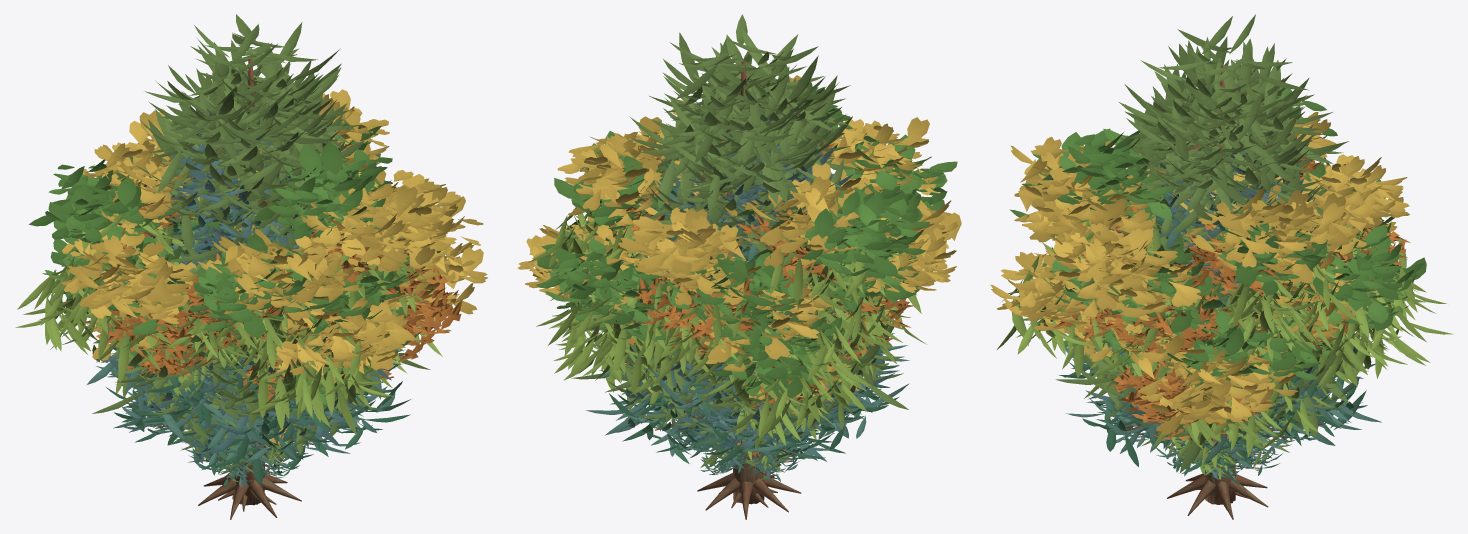
File: grove-trees.glb
3 views of the same model, side by side, from view 1: azimuth 30°, elevation 25°; view 2: azimuth 150°, elevation 25°; view 3: azimuth 270°, elevation 25° (orthographic).
Parts seen in each view (by area): view 1: ginkgo_5_leaves, redwood_5_leaves, camphor_5_leaves, willow_5_leaves, maple_5_leaves, cedar_5_leaves, cypress_5_leaves, pine_5_leaves, willow_3_leaves, maple_3_leaves, pine_3_leaves, redwood_3_leaves (+5 smaller); view 2: ginkgo_5_leaves, camphor_5_leaves, redwood_5_leaves, willow_5_leaves, maple_5_leaves, cedar_5_leaves, pine_5_leaves, cypress_5_leaves, willow_3_leaves, pine_3_leaves, cedar_3_leaves, redwood_3_leaves (+7 smaller); view 3: ginkgo_5_leaves, redwood_5_leaves, camphor_5_leaves, willow_5_leaves, maple_5_leaves, cedar_5_leaves, pine_5_leaves, willow_3_leaves, ginkgo_3_leaves, cypress_5_leaves, pine_3_leaves, camphor_3_leaves (+3 smaller).
Part boxes in pixels (x1=…): ginkgo_5_leaves: x1=61, y1=89, x2=487, y2=381; redwood_5_leaves: x1=92, y1=14, x2=430, y2=429; camphor_5_leaves: x1=29, y1=120, x2=440, y2=340; willow_5_leaves: x1=15, y1=169, x2=442, y2=435; maple_5_leaves: x1=86, y1=142, x2=462, y2=367; cedar_5_leaves: x1=87, y1=144, x2=410, y2=461; cypress_5_leaves: x1=101, y1=113, x2=391, y2=453; pine_5_leaves: x1=106, y1=197, x2=410, y2=485; willow_3_leaves: x1=111, y1=313, x2=409, y2=423; maple_3_leaves: x1=116, y1=265, x2=403, y2=409; pine_3_leaves: x1=121, y1=372, x2=343, y2=475; redwood_3_leaves: x1=134, y1=151, x2=356, y2=454; ginkgo_5_leaves: x1=517, y1=75, x2=961, y2=371; camphor_5_leaves: x1=536, y1=73, x2=957, y2=398; redwood_5_leaves: x1=571, y1=14, x2=908, y2=447; willow_5_leaves: x1=528, y1=207, x2=926, y2=445; maple_5_leaves: x1=552, y1=142, x2=920, y2=403; cedar_5_leaves: x1=586, y1=133, x2=909, y2=454; pine_5_leaves: x1=599, y1=158, x2=899, y2=466; cypress_5_leaves: x1=621, y1=101, x2=899, y2=447; willow_3_leaves: x1=621, y1=331, x2=889, y2=448; pine_3_leaves: x1=643, y1=369, x2=863, y2=466; cedar_3_leaves: x1=651, y1=378, x2=865, y2=461; redwood_3_leaves: x1=617, y1=156, x2=865, y2=444; ginkgo_5_leaves: x1=990, y1=93, x2=1409, y2=434; redwood_5_leaves: x1=1055, y1=14, x2=1372, y2=473; camphor_5_leaves: x1=1010, y1=82, x2=1426, y2=402; willow_5_leaves: x1=997, y1=157, x2=1453, y2=457; maple_5_leaves: x1=1050, y1=138, x2=1410, y2=425; cedar_5_leaves: x1=1065, y1=152, x2=1384, y2=464; pine_5_leaves: x1=1059, y1=159, x2=1375, y2=466; willow_3_leaves: x1=1084, y1=335, x2=1368, y2=469; ginkgo_3_leaves: x1=1067, y1=245, x2=1327, y2=429; cypress_5_leaves: x1=1085, y1=129, x2=1345, y2=462; pine_3_leaves: x1=1097, y1=402, x2=1334, y2=473; camphor_3_leaves: x1=1061, y1=312, x2=1360, y2=390.
Size of the model in its own units: 4.85 by 5.28 by 4.75.
